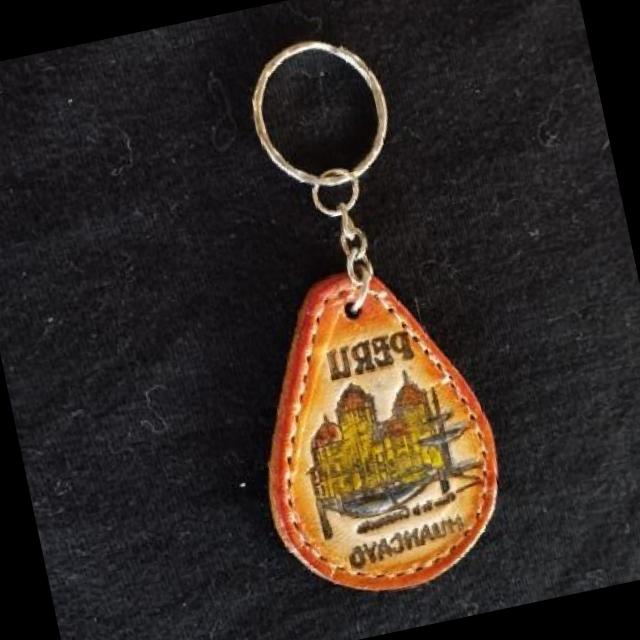Llavero: (224, 246, 522, 612)
